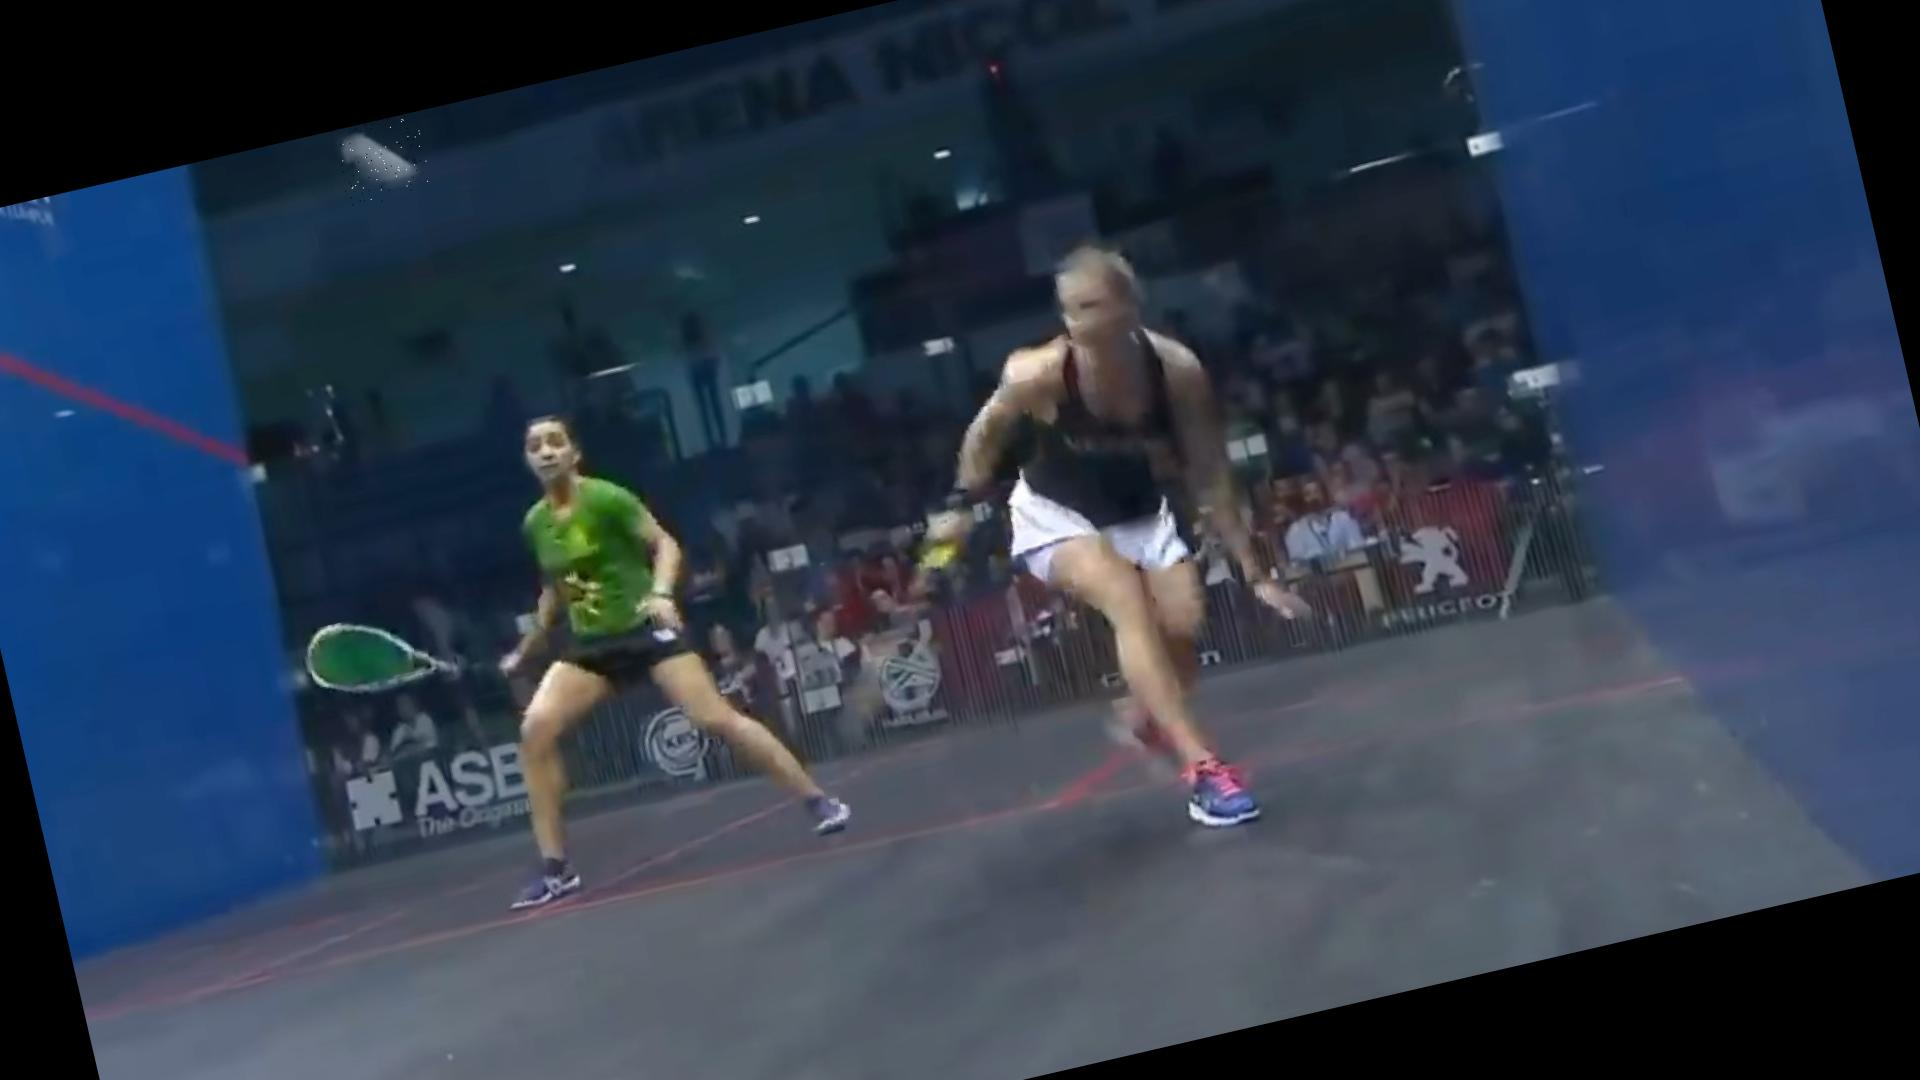Squash-Ball: (328, 112, 435, 210)
